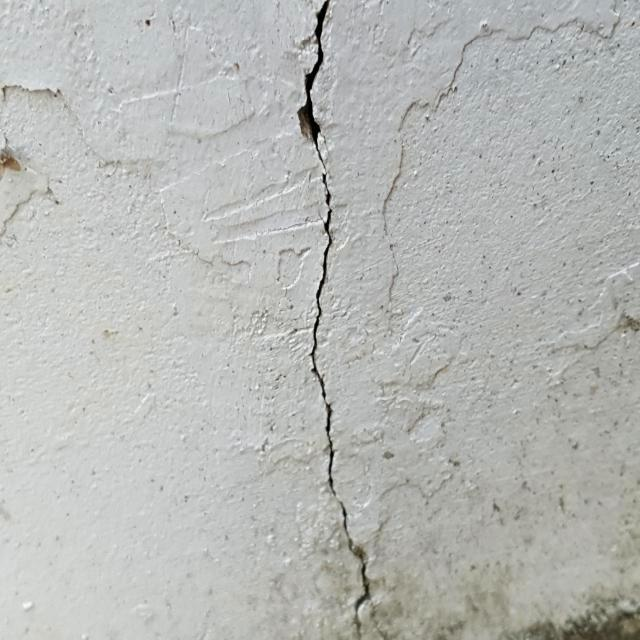SurfaceCrack: (256, 1, 430, 640)
